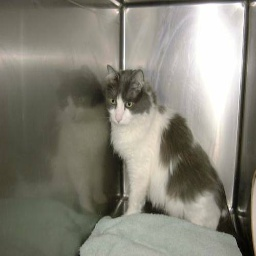cat: (102, 64, 234, 237)
